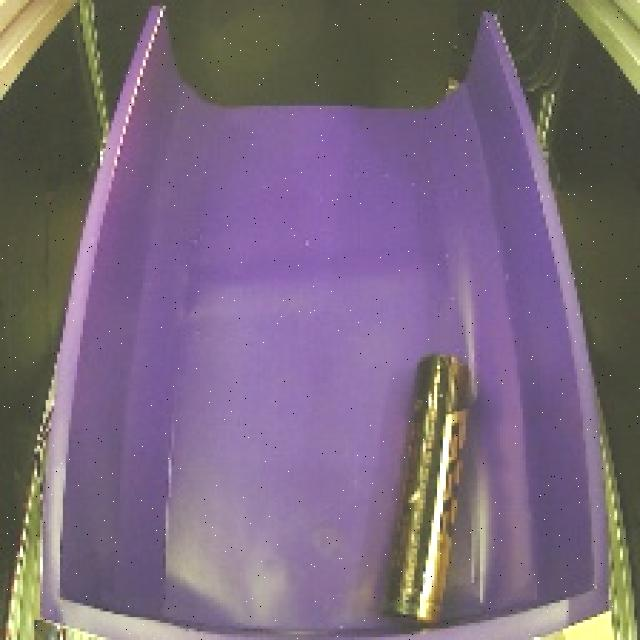battery: (378, 332, 487, 633)
